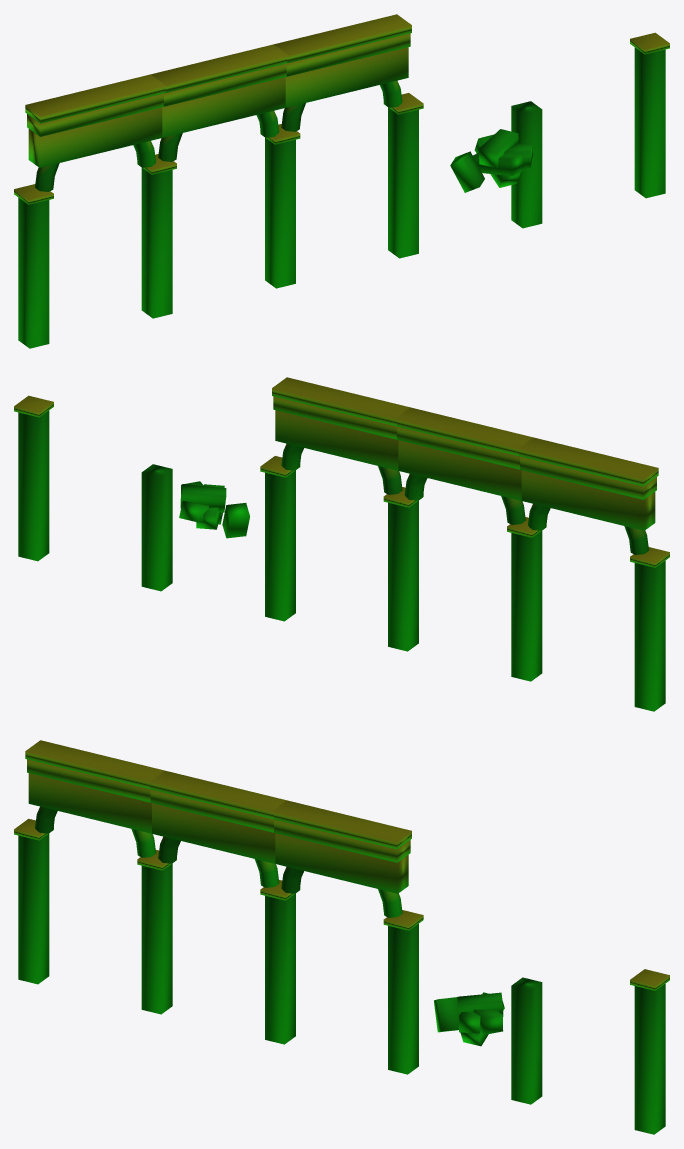
The model's file is iskarra_arcade_sunk.glb.
The picture shows the model from 3 angles, top to bottom: view 1: azimuth 30°, elevation 25°; view 2: azimuth 150°, elevation 25°; view 3: azimuth 330°, elevation 25°; orthographic projection.
Parts seen in each view (by area): view 1: iskarra_arcade_sunk; view 2: iskarra_arcade_sunk; view 3: iskarra_arcade_sunk.
Boxes of the visible parts, x1,y1,x2,y2 form: iskarra_arcade_sunk: (14,14,669,348); iskarra_arcade_sunk: (14,377,669,711); iskarra_arcade_sunk: (14,740,669,1134).
Size of what is drawn, in the model's own units: 23.94 by 8.27 by 2.22.
